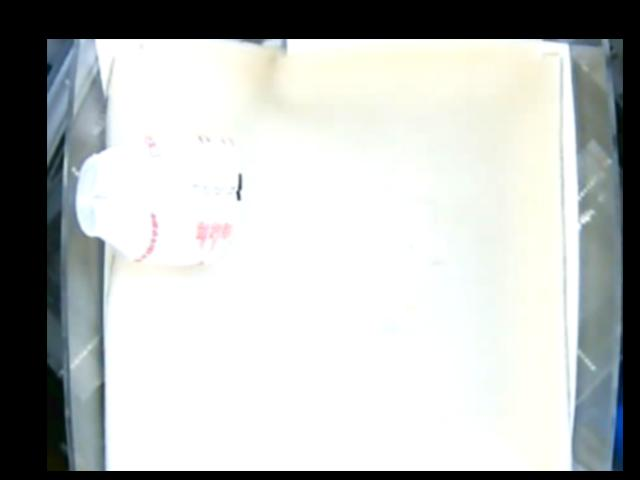Bottle: (74, 136, 242, 267)
